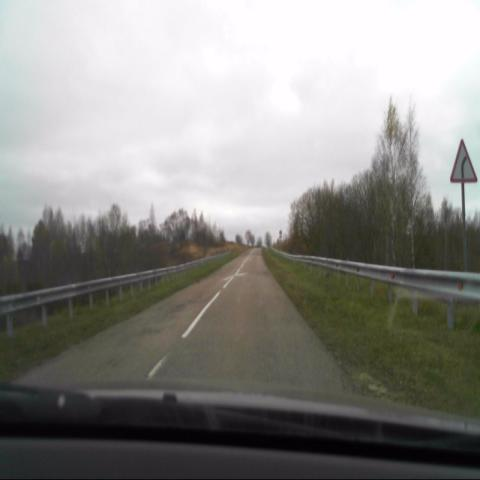1_11: (450, 134, 478, 184)
